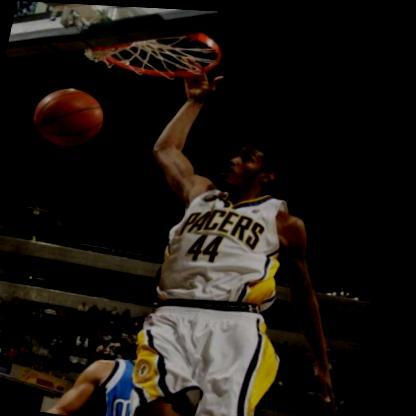basketball: (30, 83, 114, 152)
